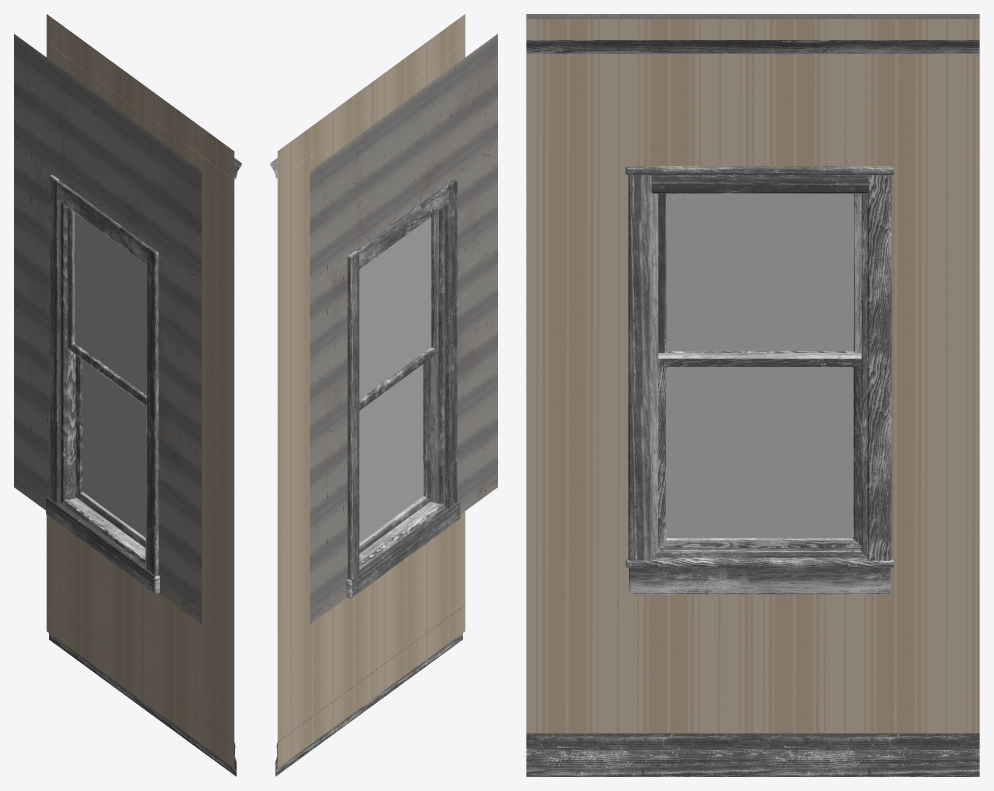
The model's file is SM_Window_Floor2_A1_200.fbx.
3 views of the same model, side by side, from view 1: azimuth 30°, elevation 25°; view 2: azimuth 150°, elevation 25°; view 3: azimuth 270°, elevation 25° (orthographic). The views are drawn at different scales.
Parts seen in each view (by area): view 1: SM_Window_Floor2_A1_200; view 2: SM_Window_Floor2_A1_200; view 3: SM_Window_Floor2_A1_200.
Part boxes in pixels (left/top/right/bottom): SM_Window_Floor2_A1_200: left=14, top=14, right=241, bottom=776; SM_Window_Floor2_A1_200: left=270, top=14, right=497, bottom=776; SM_Window_Floor2_A1_200: left=526, top=14, right=979, bottom=776.
Bounding box in the file's own units: 19.41 × 140 × 258.
Materials: 5 (4 with a texture image).
